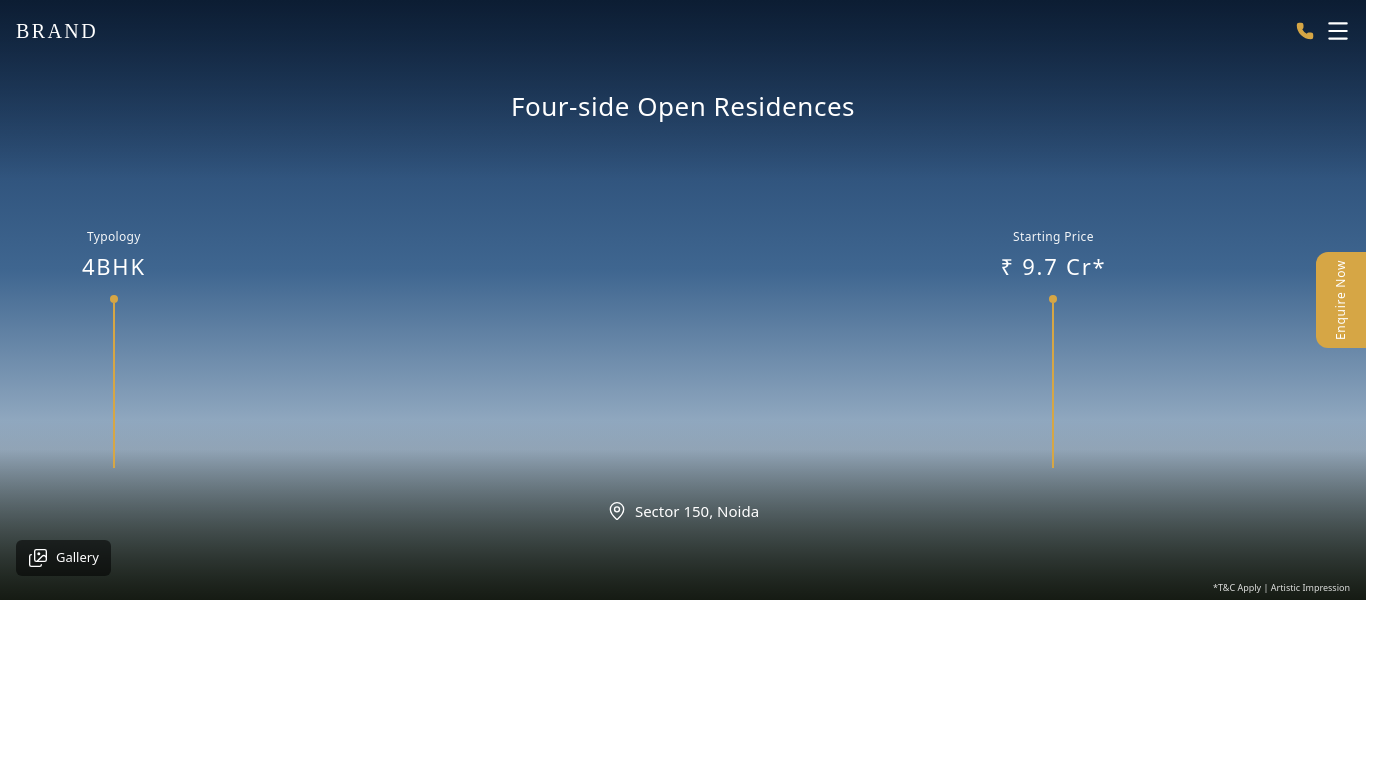
Test case: iPixxel Realty → Hero widget › skyline menu icon opens the menu items and closes after a pick
Expected: the text "Floor Plans" is not shown
Click the button named "Menu": {"x": 1338, "y": 31} [1318,11,1358,51]
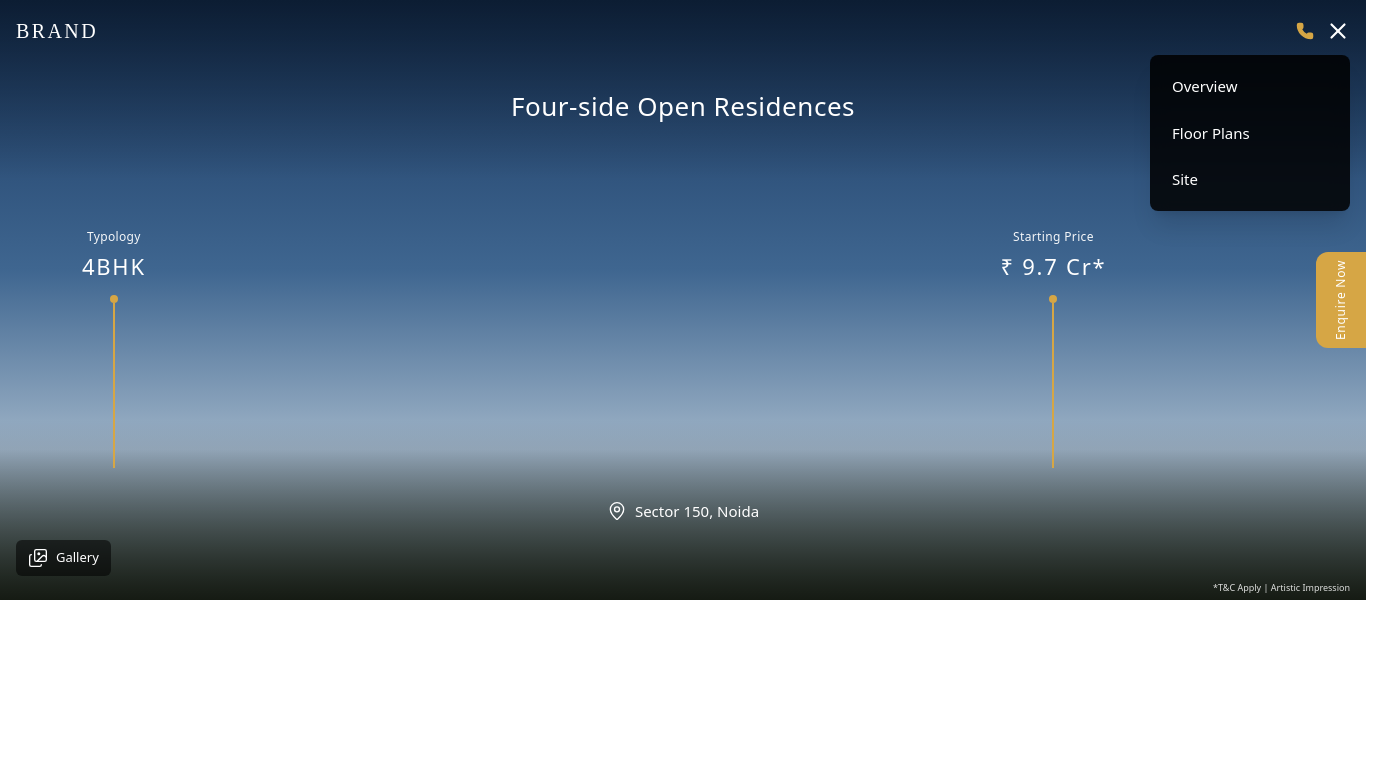
Click the link "Floor Plans": {"x": 1211, "y": 132} [1172,122,1250,142]
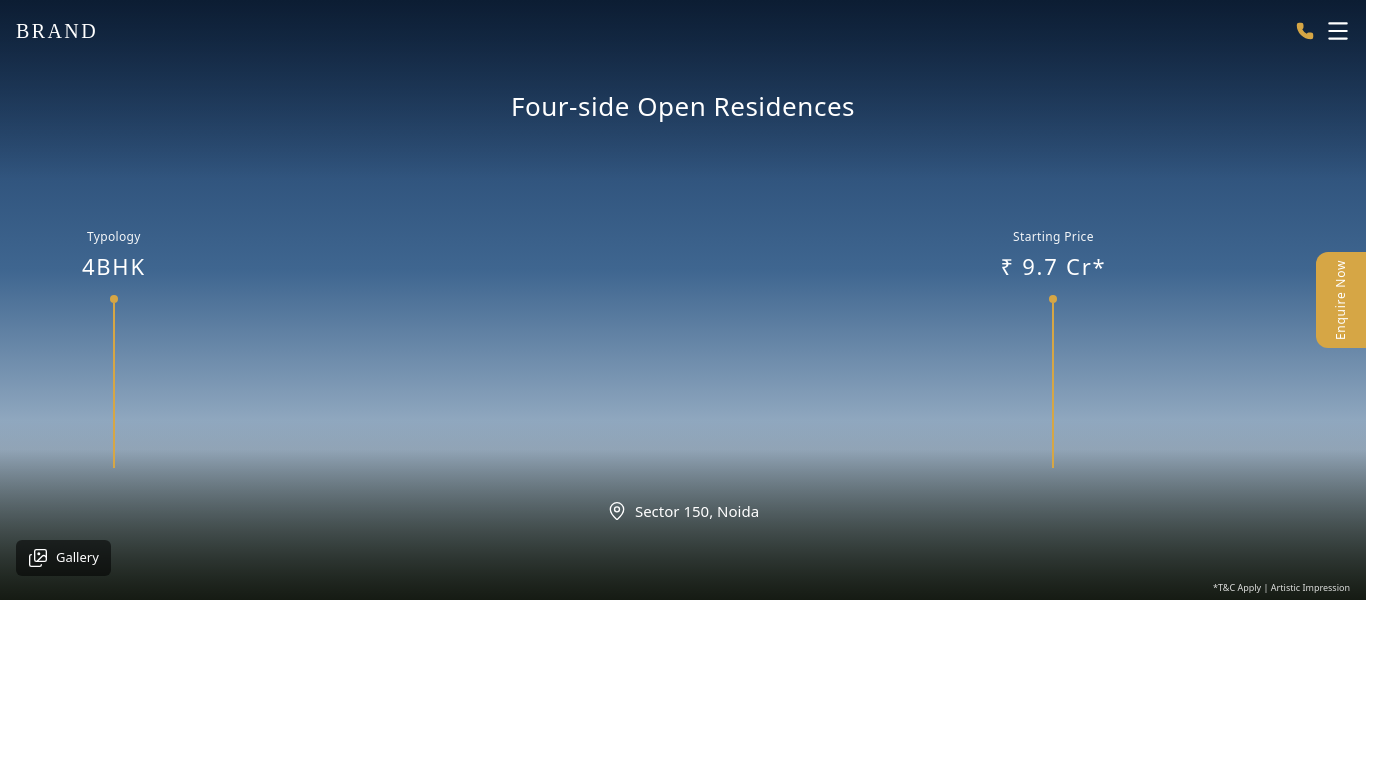
Expected: the link "Floor Plans" is gone
